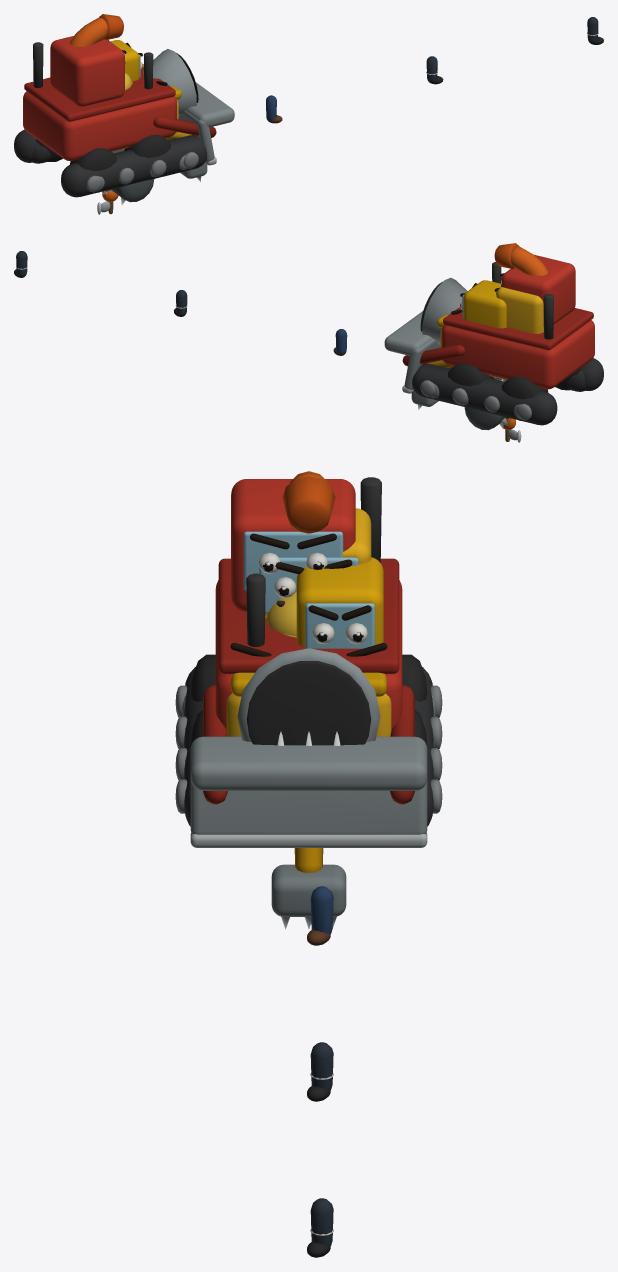
Rendered from invasores.glb.
The picture shows the model from 3 angles, top to bottom: view 1: azimuth 30°, elevation 25°; view 2: azimuth 150°, elevation 25°; view 3: azimuth 270°, elevation 25°; orthographic projection. The views are drawn at different scales.
Parts seen in each view (by area): view 1: desbrozadora_cuerpo, astilladora_cuerpo, bulldozer_cuerpo, excavadora_cuerpo, desbrozadora_tambor, profesional_pierna_vista, motosierra_pierna_vista, independiente_pierna_vista; view 2: desbrozadora_cuerpo, astilladora_cuerpo, bulldozer_cuerpo, excavadora_cuerpo, desbrozadora_tambor, motosierra_pierna_vista, profesional_pierna_vista, independiente_pierna_vista; view 3: desbrozadora_cuerpo, bulldozer_cuerpo, astilladora_cuerpo, excavadora_cuerpo, excavadora_brazo, motosierra_pierna_vista, profesional_pierna_vista, independiente_pierna_vista.
Part boxes in pixels (x1,y1,x2,y2): desbrozadora_cuerpo: (14,36,234,197); astilladora_cuerpo: (35,14,198,171); bulldozer_cuerpo: (50,52,216,191); excavadora_cuerpo: (32,40,142,163); desbrozadora_tambor: (102,149,154,205); profesional_pierna_vista: (426,56,443,84); motosierra_pierna_vista: (587,17,603,44); independiente_pierna_vista: (266,95,282,123); desbrozadora_cuerpo: (384,254,603,425); astilladora_cuerpo: (420,243,582,420); bulldozer_cuerpo: (402,262,543,419); excavadora_cuerpo: (460,280,585,391); desbrozadora_tambor: (464,377,509,430); motosierra_pierna_vista: (14,251,27,277); profesional_pierna_vista: (174,290,187,316); independiente_pierna_vista: (333,329,347,355); desbrozadora_cuerpo: (175,477,442,826); bulldozer_cuerpo: (182,508,435,847); astilladora_cuerpo: (190,471,427,746); excavadora_cuerpo: (296,557,383,648); excavadora_brazo: (271,848,346,929); motosierra_pierna_vista: (307,1198,333,1257); profesional_pierna_vista: (307,1042,333,1101); independiente_pierna_vista: (307,886,333,945).
Bounding box in the file's own units: 5.63 × 1.91 × 1.16.
